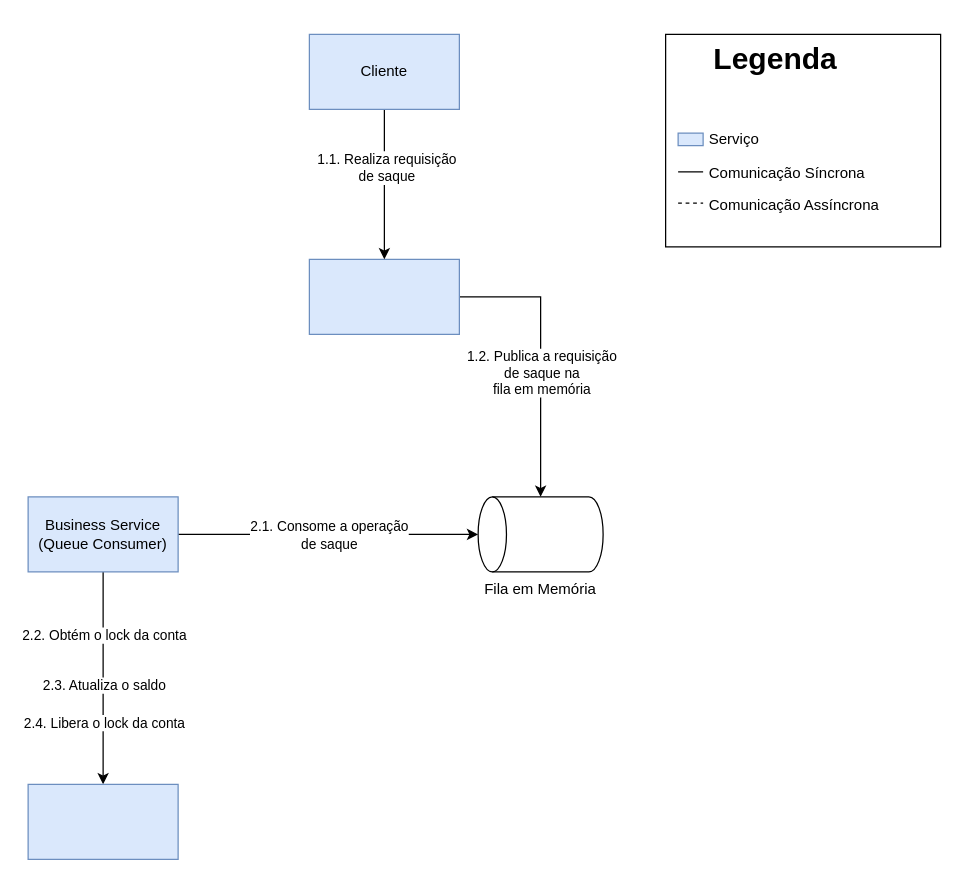
The diagram is 963 pixels wide and 881 high, and some of its shapes have lost their labels. The shapes that lost their labels are listed below. From the top down, each one's centre as x and y in pixels, then its label:
At [383,296]: "Business Service (API REST)".
At [102,821]: "Data Service (API REST)".
